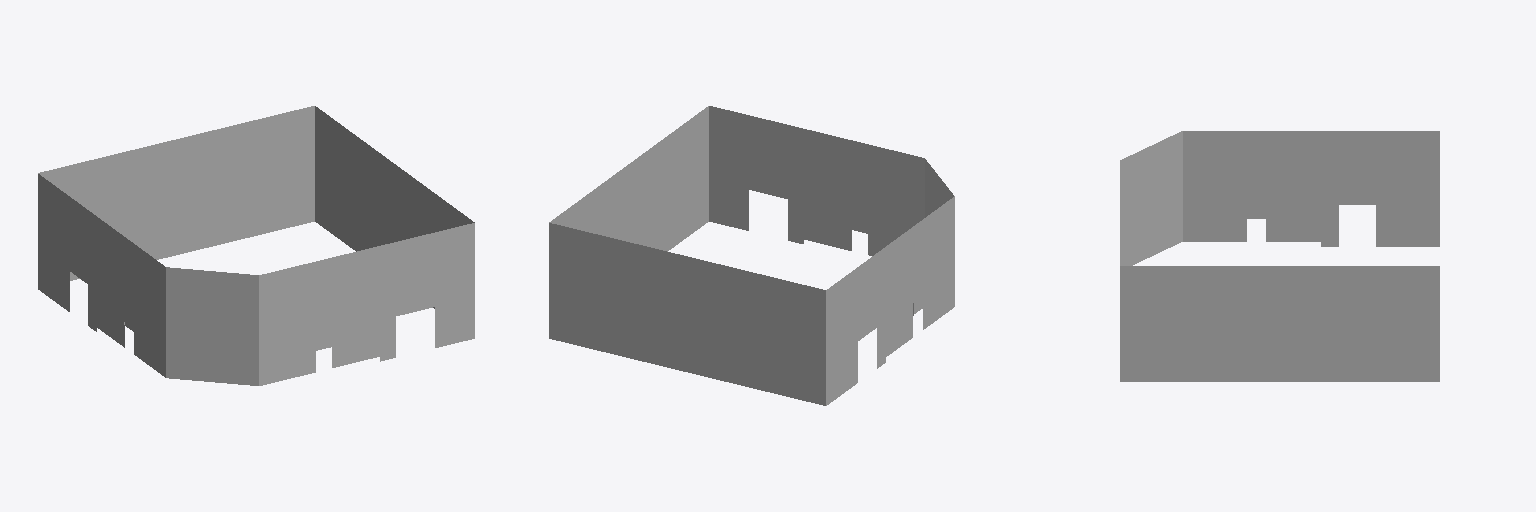
Rendered from BallroomWalls.obj.
3 views of the same model, side by side, from view 1: azimuth 30°, elevation 25°; view 2: azimuth 150°, elevation 25°; view 3: azimuth 270°, elevation 25° (orthographic).
Visible parts, largest first — view 1: Plane.000_Plane.020; view 2: Plane.000_Plane.020; view 3: Plane.000_Plane.020.
Part boxes in pixels (left/top/right/bottom): Plane.000_Plane.020: left=38, top=106, right=474, bottom=385; Plane.000_Plane.020: left=549, top=106, right=954, bottom=405; Plane.000_Plane.020: left=1120, top=131, right=1439, bottom=381.
Bounding box in the file's own units: 35.09 × 14 × 35.